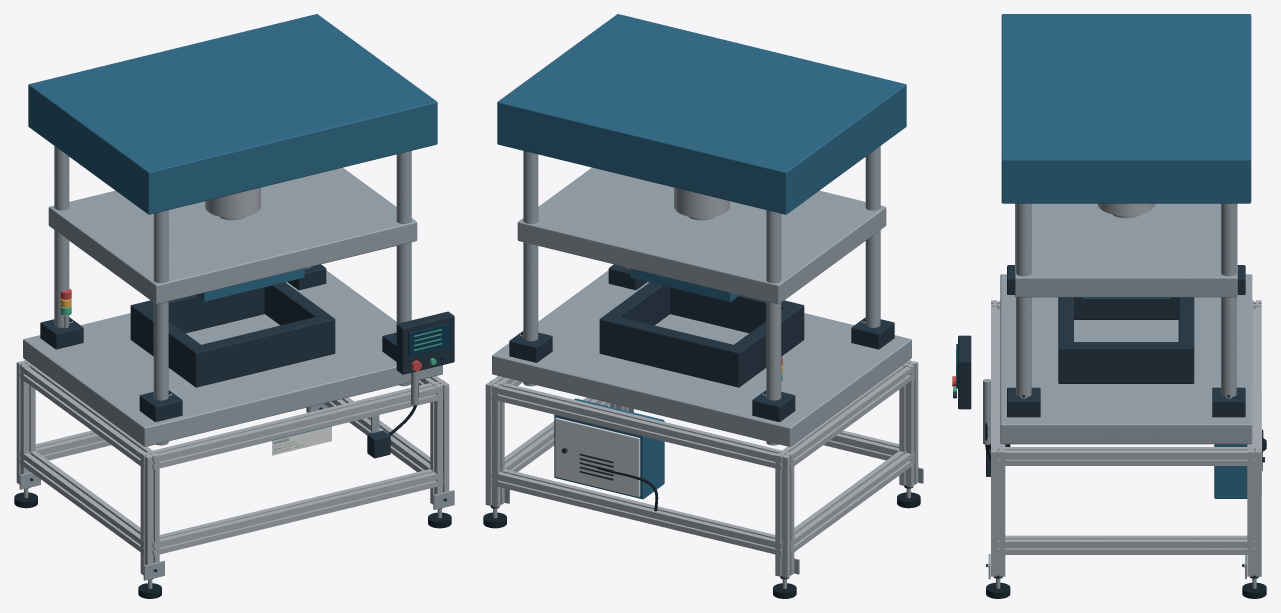
The model's file is tray-former.glb.
3 renders of one model, left to right at view 1: azimuth 30°, elevation 25°; view 2: azimuth 150°, elevation 25°; view 3: azimuth 270°, elevation 25°, orthographic. The views are drawn at different scales.
Visible parts, largest first — view 1: PressCrown_70, MovingToolPlate_72, LowerToolTable_49, TrayMoldWall_78, Extrusion_34, Extrusion_35, TrayMoldWall_77, Extrusion_36, GuideColumn_55, Extrusion_37, GuideColumn_65, Extrusion_11 (+16 smaller); view 2: PressCrown_70, LowerToolTable_49, MovingToolPlate_72, TrayMoldWall_77, Extrusion_32, Extrusion_33, BackAccessDoor_41, TrayMoldWall_78, Extrusion_36, Extrusion_37, GuideColumn_50, GuideColumn_60 (+15 smaller); view 3: PressCrown_70, LowerToolTable_49, MovingToolPlate_72, TrayMoldWall_76, Extrusion_38, Extrusion_39, GuideColumn_60, GuideColumn_65, TrayMoldWall_75, Extrusion_27, Extrusion_19, Extrusion_33 (+9 smaller).
Part boxes in pixels (bbox=[...]): PressCrown_70: bbox=[28, 14, 437, 214]; MovingToolPlate_72: bbox=[48, 167, 417, 304]; LowerToolTable_49: bbox=[23, 270, 442, 446]; TrayMoldWall_78: bbox=[189, 314, 335, 387]; Extrusion_34: bbox=[152, 469, 443, 555]; Extrusion_35: bbox=[146, 381, 443, 469]; TrayMoldWall_77: bbox=[130, 287, 264, 343]; Extrusion_36: bbox=[20, 451, 144, 554]; GuideColumn_55: bbox=[153, 210, 168, 445]; Extrusion_37: bbox=[20, 365, 155, 468]; GuideColumn_65: bbox=[396, 151, 411, 386]; Extrusion_11: bbox=[140, 450, 159, 575]; PressCrown_70: bbox=[497, 14, 906, 214]; LowerToolTable_49: bbox=[492, 270, 911, 446]; MovingToolPlate_72: bbox=[517, 167, 886, 304]; TrayMoldWall_77: bbox=[599, 314, 745, 387]; Extrusion_32: bbox=[491, 469, 782, 555]; Extrusion_33: bbox=[491, 381, 788, 469]; BackAccessDoor_41: bbox=[555, 417, 640, 497]; TrayMoldWall_78: bbox=[670, 287, 804, 343]; Extrusion_36: bbox=[790, 451, 914, 554]; Extrusion_37: bbox=[779, 365, 914, 468]; GuideColumn_50: bbox=[766, 210, 781, 445]; GuideColumn_60: bbox=[523, 151, 538, 386]; PressCrown_70: bbox=[1001, 14, 1251, 203]; LowerToolTable_49: bbox=[1000, 274, 1252, 444]; MovingToolPlate_72: bbox=[1015, 203, 1237, 297]; TrayMoldWall_76: bbox=[1065, 342, 1187, 383]; Extrusion_38: bbox=[998, 535, 1254, 554]; Extrusion_39: bbox=[998, 447, 1254, 465]; GuideColumn_60: bbox=[1221, 203, 1236, 396]; GuideColumn_65: bbox=[1016, 203, 1031, 396]; TrayMoldWall_75: bbox=[1074, 297, 1178, 319]; Extrusion_27: bbox=[991, 446, 1005, 576]; Extrusion_19: bbox=[1247, 446, 1261, 576]; Extrusion_33: bbox=[1247, 307, 1261, 449].
Bounding box in the file's own units: 1.66 × 2.15 × 1.41.
11 materials, 3 textured.
